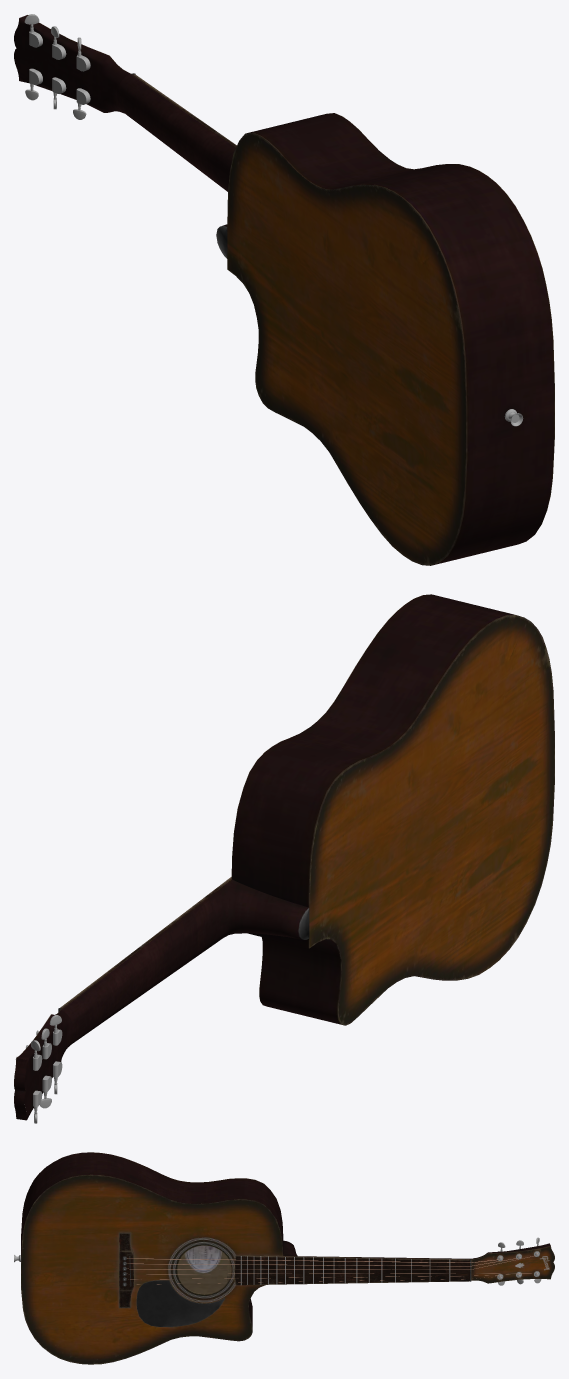
Rendered from guitar_inUse.glb.
The picture shows the model from 3 angles, top to bottom: view 1: azimuth 30°, elevation 25°; view 2: azimuth 150°, elevation 25°; view 3: azimuth 270°, elevation 25°; orthographic projection. The views are drawn at different scales.
Visible parts, largest first — view 1: guitar_lowobjcleanermaterialmergergles; view 2: guitar_lowobjcleanermaterialmergergles; view 3: guitar_lowobjcleanermaterialmergergles.
Boxes of the visible parts, x1,y1,x2,y2 form: guitar_lowobjcleanermaterialmergergles: [14, 14, 554, 565]; guitar_lowobjcleanermaterialmergergles: [14, 594, 554, 1123]; guitar_lowobjcleanermaterialmergergles: [14, 1152, 554, 1364].
Bounding box in the file's own units: 0.1402 × 0.497 × 1.28.
1 material, 1 textured.
